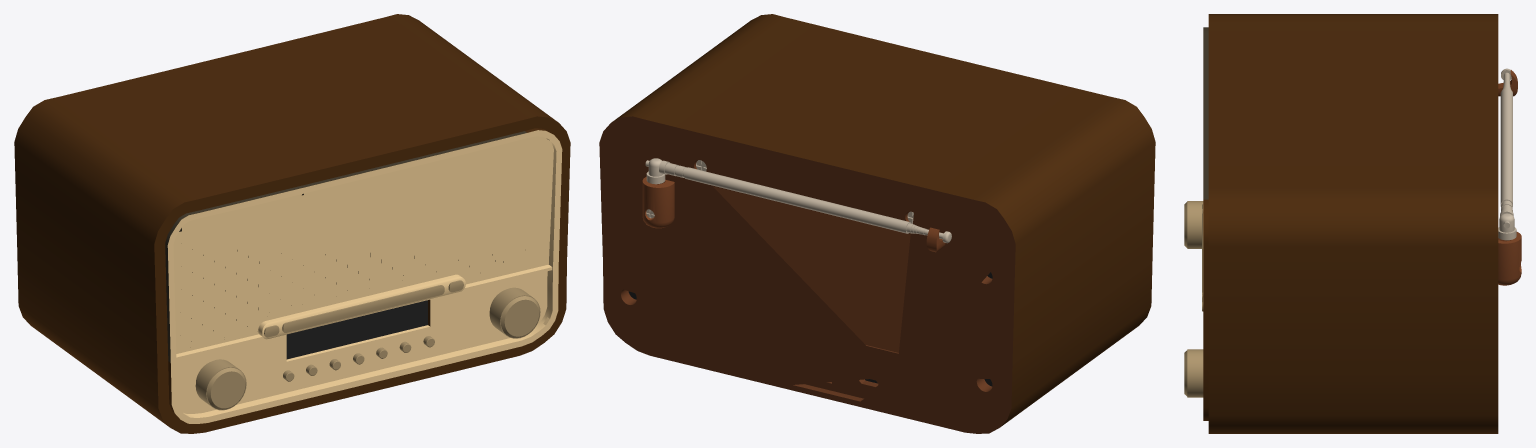
Rendered from Radio.fbx.
3 views of the same model, side by side, from view 1: azimuth 30°, elevation 25°; view 2: azimuth 150°, elevation 25°; view 3: azimuth 270°, elevation 25° (orthographic). The views are drawn at different scales.
Parts seen in each view (by area): view 1: Cube.003, Cube.001, Cube.019, Cube.017, Cube.016, Circle.003, Circle.002, Cube.004, Cylinder.001; view 2: Cube.003, Cube.005, Cube.022, Cylinder.006, Cylinder.002; view 3: Cube.003, Cylinder.006, Cylinder.002, Cube.004, Circle.002, Circle.003.
Boxes of the visible parts, box(x1,y1,x2,y2) form: Cube.003: box(14, 14, 570, 433); Cube.001: box(167, 130, 562, 423); Cube.019: box(286, 300, 427, 359); Cube.017: box(264, 280, 463, 337); Cube.016: box(258, 274, 465, 339); Circle.003: box(195, 359, 246, 410); Circle.002: box(489, 287, 540, 338); Cube.004: box(165, 131, 549, 362); Cylinder.001: box(283, 336, 434, 381); Cube.003: box(612, 14, 1155, 427); Cube.005: box(599, 116, 1015, 433); Cube.022: box(713, 186, 910, 352); Cylinder.006: box(645, 158, 951, 243); Cylinder.002: box(642, 176, 674, 228); Cube.003: box(1203, 14, 1498, 433); Cylinder.006: box(1498, 68, 1516, 240); Cylinder.002: box(1498, 232, 1521, 285); Cube.004: box(1203, 27, 1208, 199); Circle.002: box(1184, 349, 1203, 397); Circle.003: box(1184, 201, 1203, 248).
Size of the model in its own units: 344 by 201 by 233.
